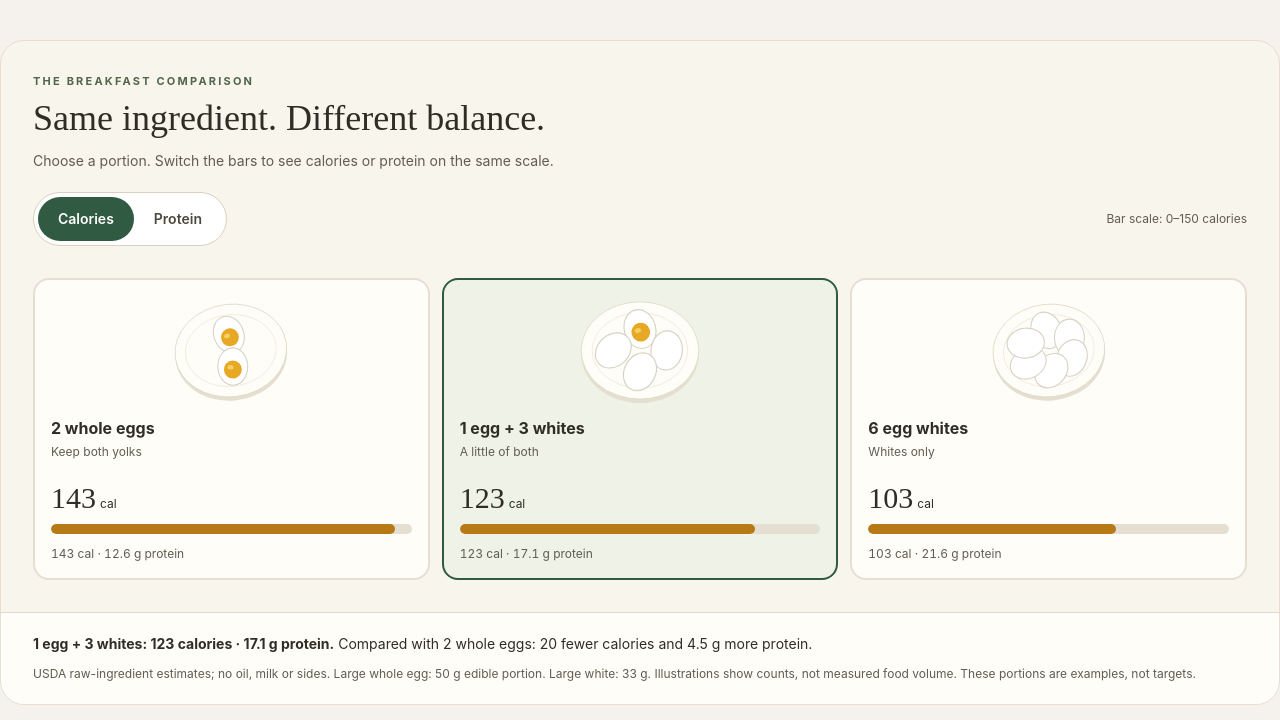
Test: egg nutrition graphics › changes the chart's unit without changing the selected food portion
Click the button "Protein" at (178, 219), box 134,197 -> 222,241
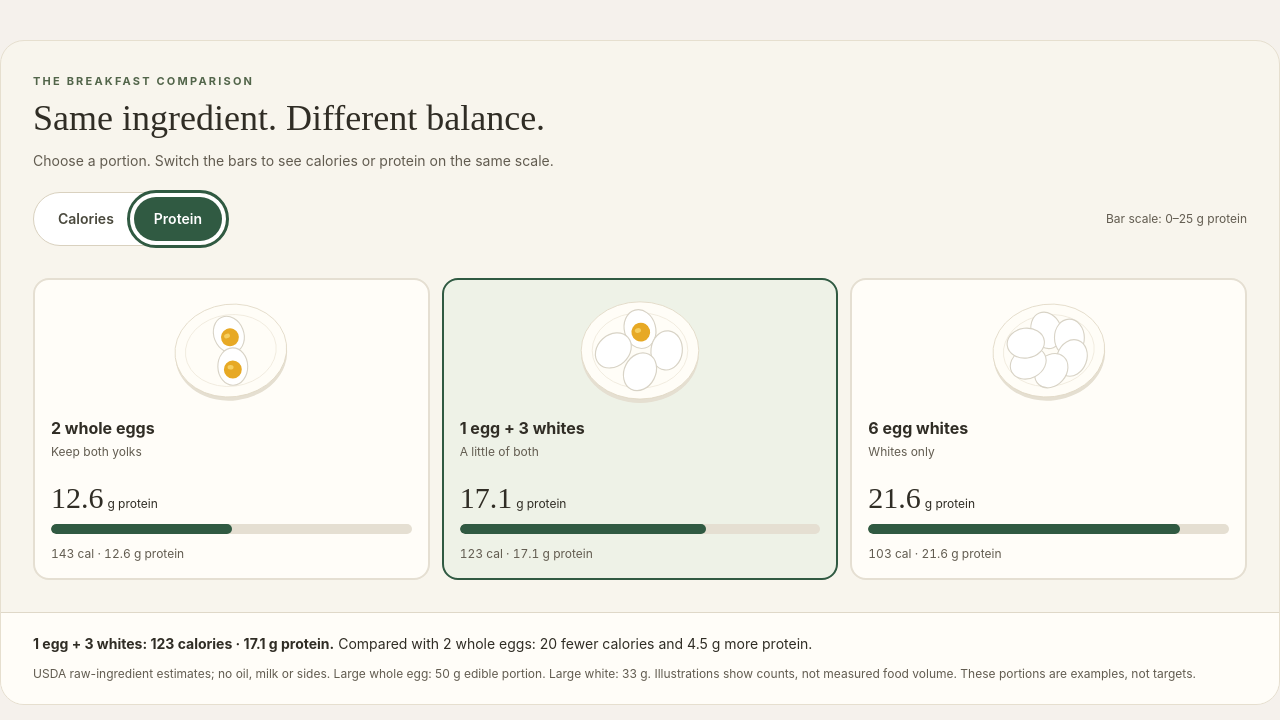
Expected: the message shows "123 calories · 17.1 g protein", 33,635 -> 812,652
Expected: the text "Bar scale: 0–25 g protein" is shown, 1106,211 -> 1247,227
